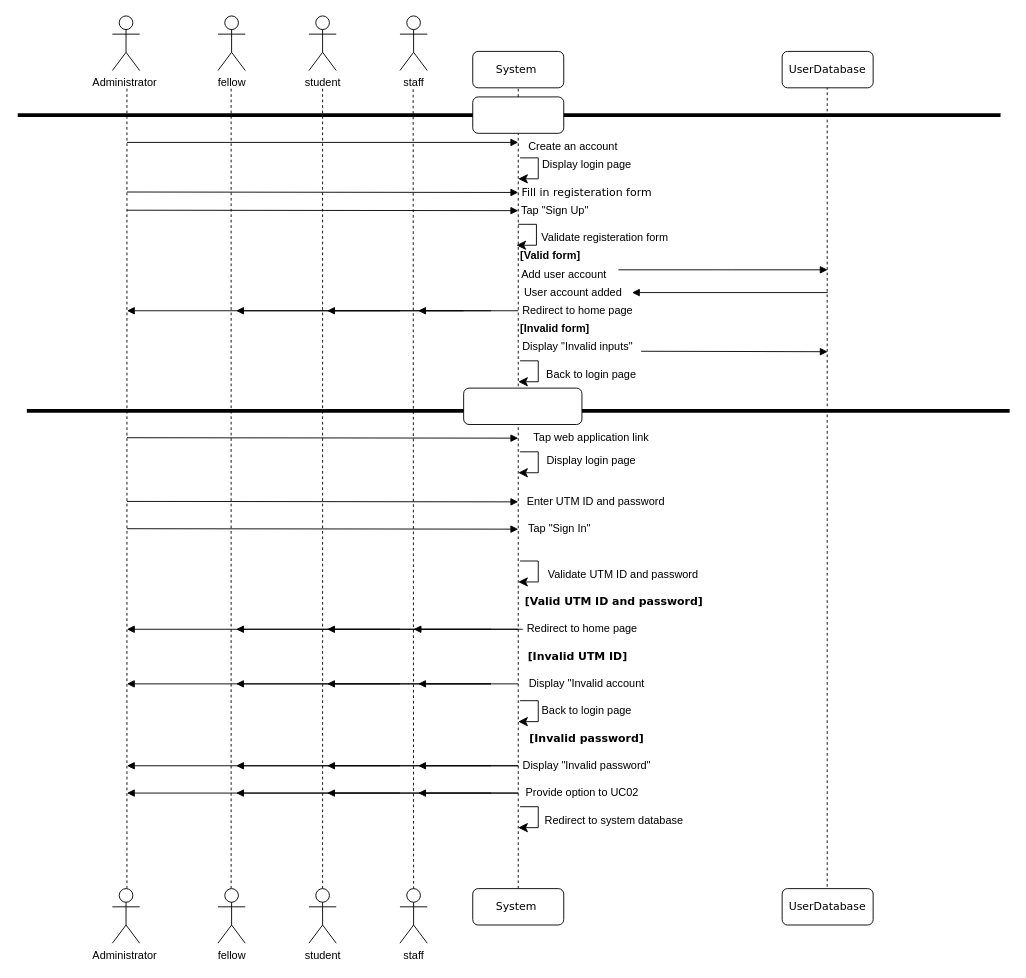
Image size: 1026x978. Some labels were removed from this diagram. The shapes that lost their labels are listed below. From the top down, each one's box as (x1, y1, x2, y2) in pixels, then its label:
(472, 96, 564, 133): User Sign Up
(463, 387, 582, 425): User Sign in
